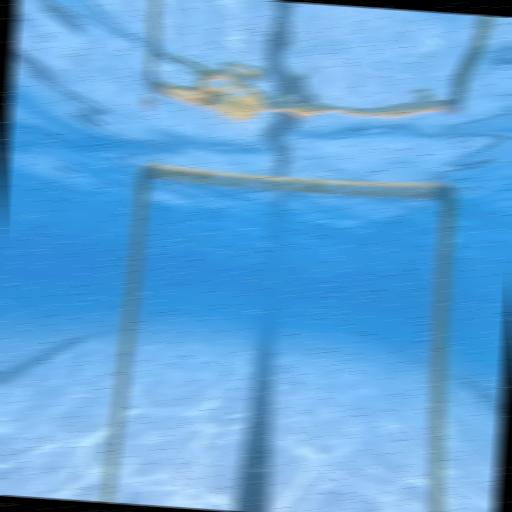gate: (98, 159, 469, 512)
